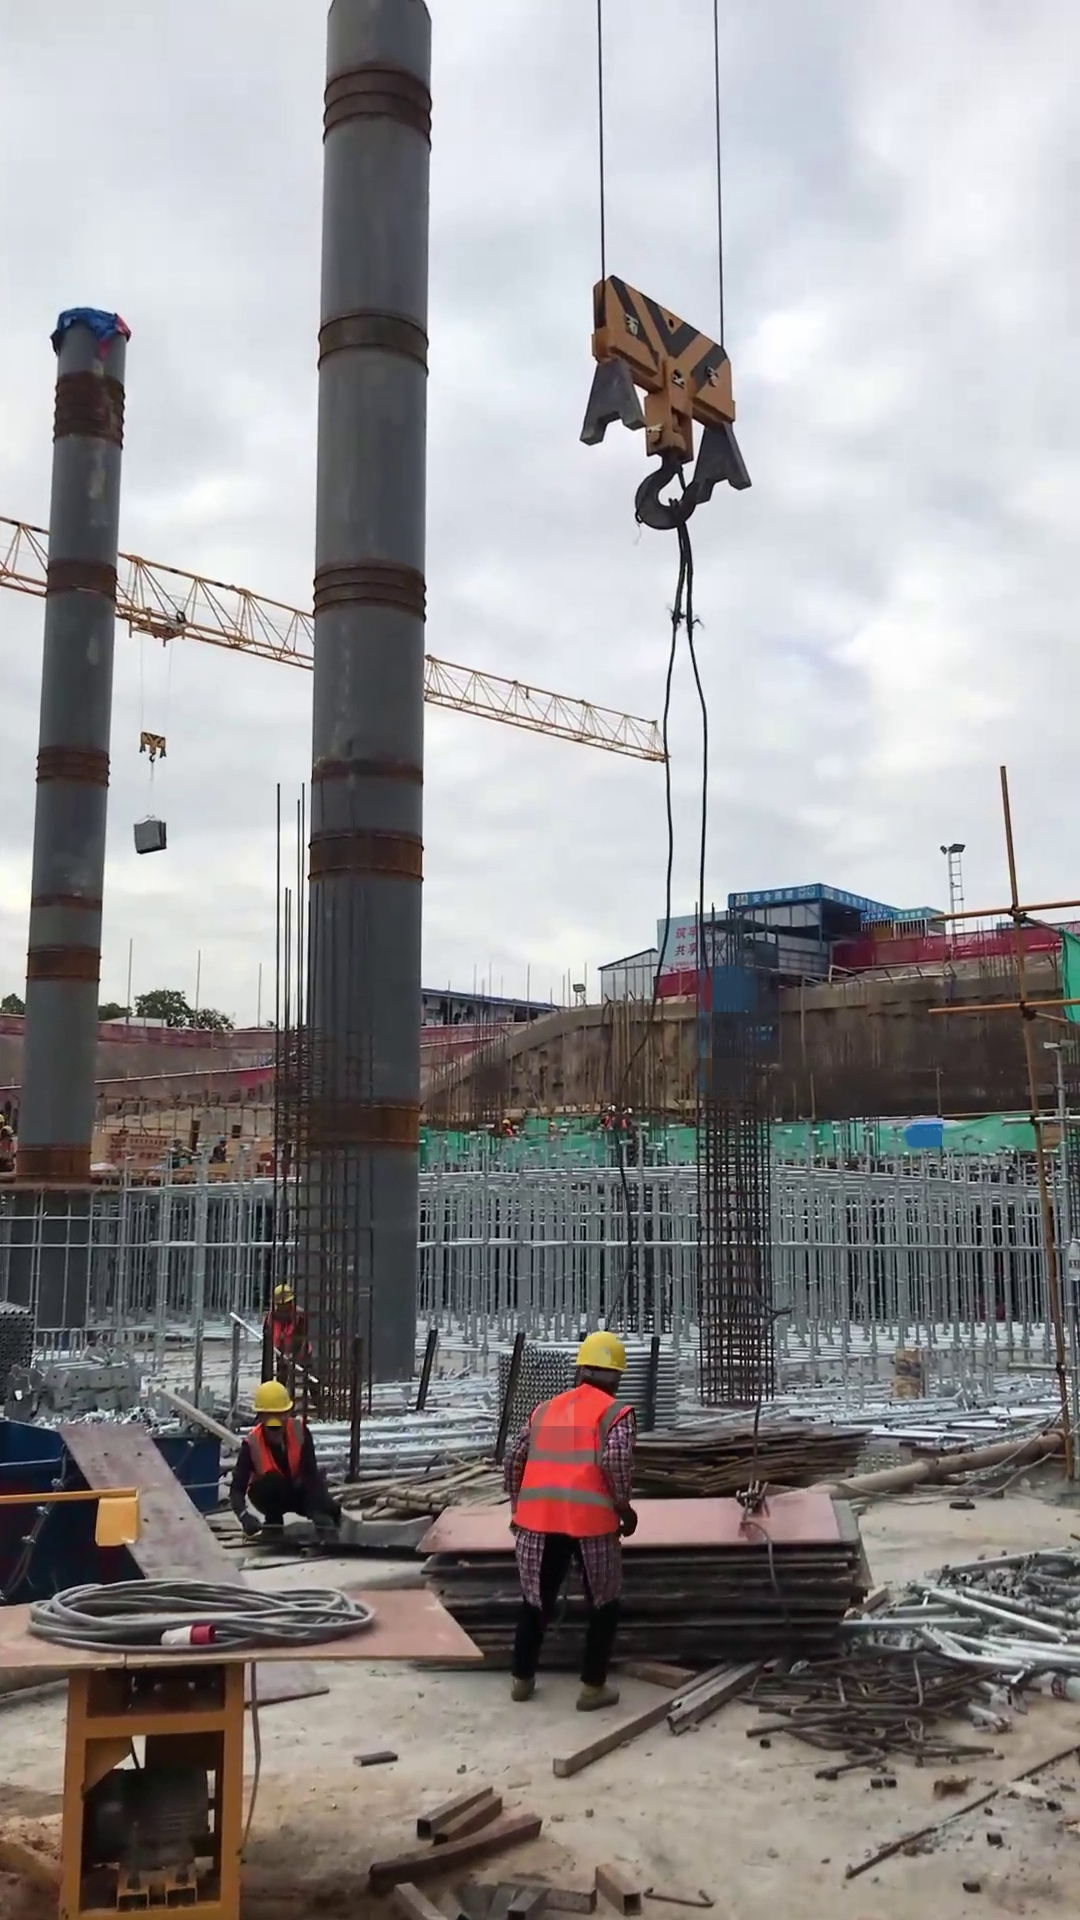board: (415, 1493, 865, 1677), (637, 1419, 878, 1491)
cutter: (1, 1480, 481, 1919)
helmet: (570, 1328, 631, 1386), (252, 1381, 294, 1415), (270, 1284, 296, 1306)
hook: (573, 270, 754, 535), (137, 729, 168, 765)
hopper: (1, 1418, 222, 1608)
person: (501, 1328, 639, 1715), (227, 1379, 344, 1539), (263, 1284, 320, 1411)
scaffold: (495, 1334, 678, 1433), (316, 1402, 494, 1485)
slogan: (733, 885, 928, 920), (674, 922, 700, 961)
vest: (509, 1382, 633, 1539), (244, 1414, 308, 1483), (266, 1310, 307, 1359)
